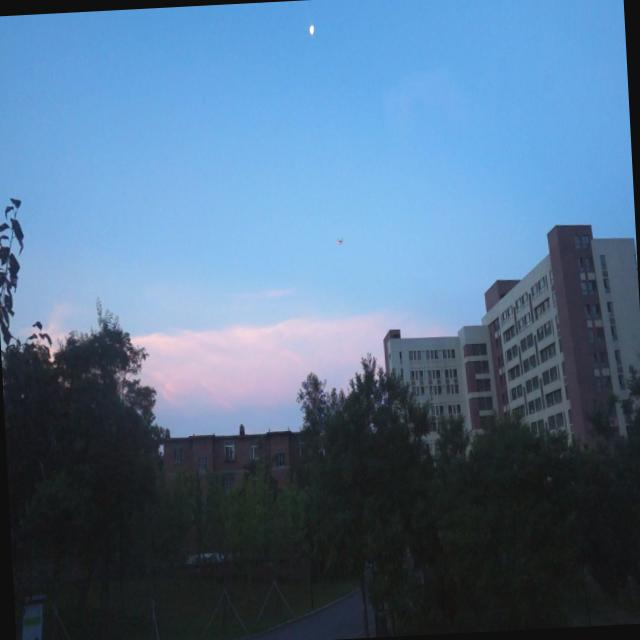drone: (336, 234, 346, 248)
